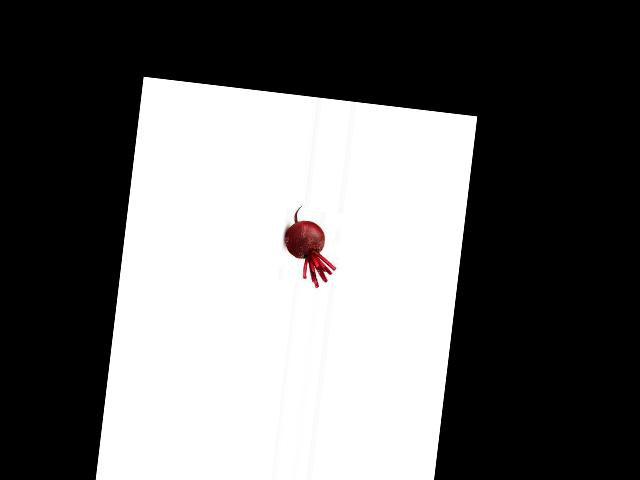beet: (280, 204, 342, 290)
